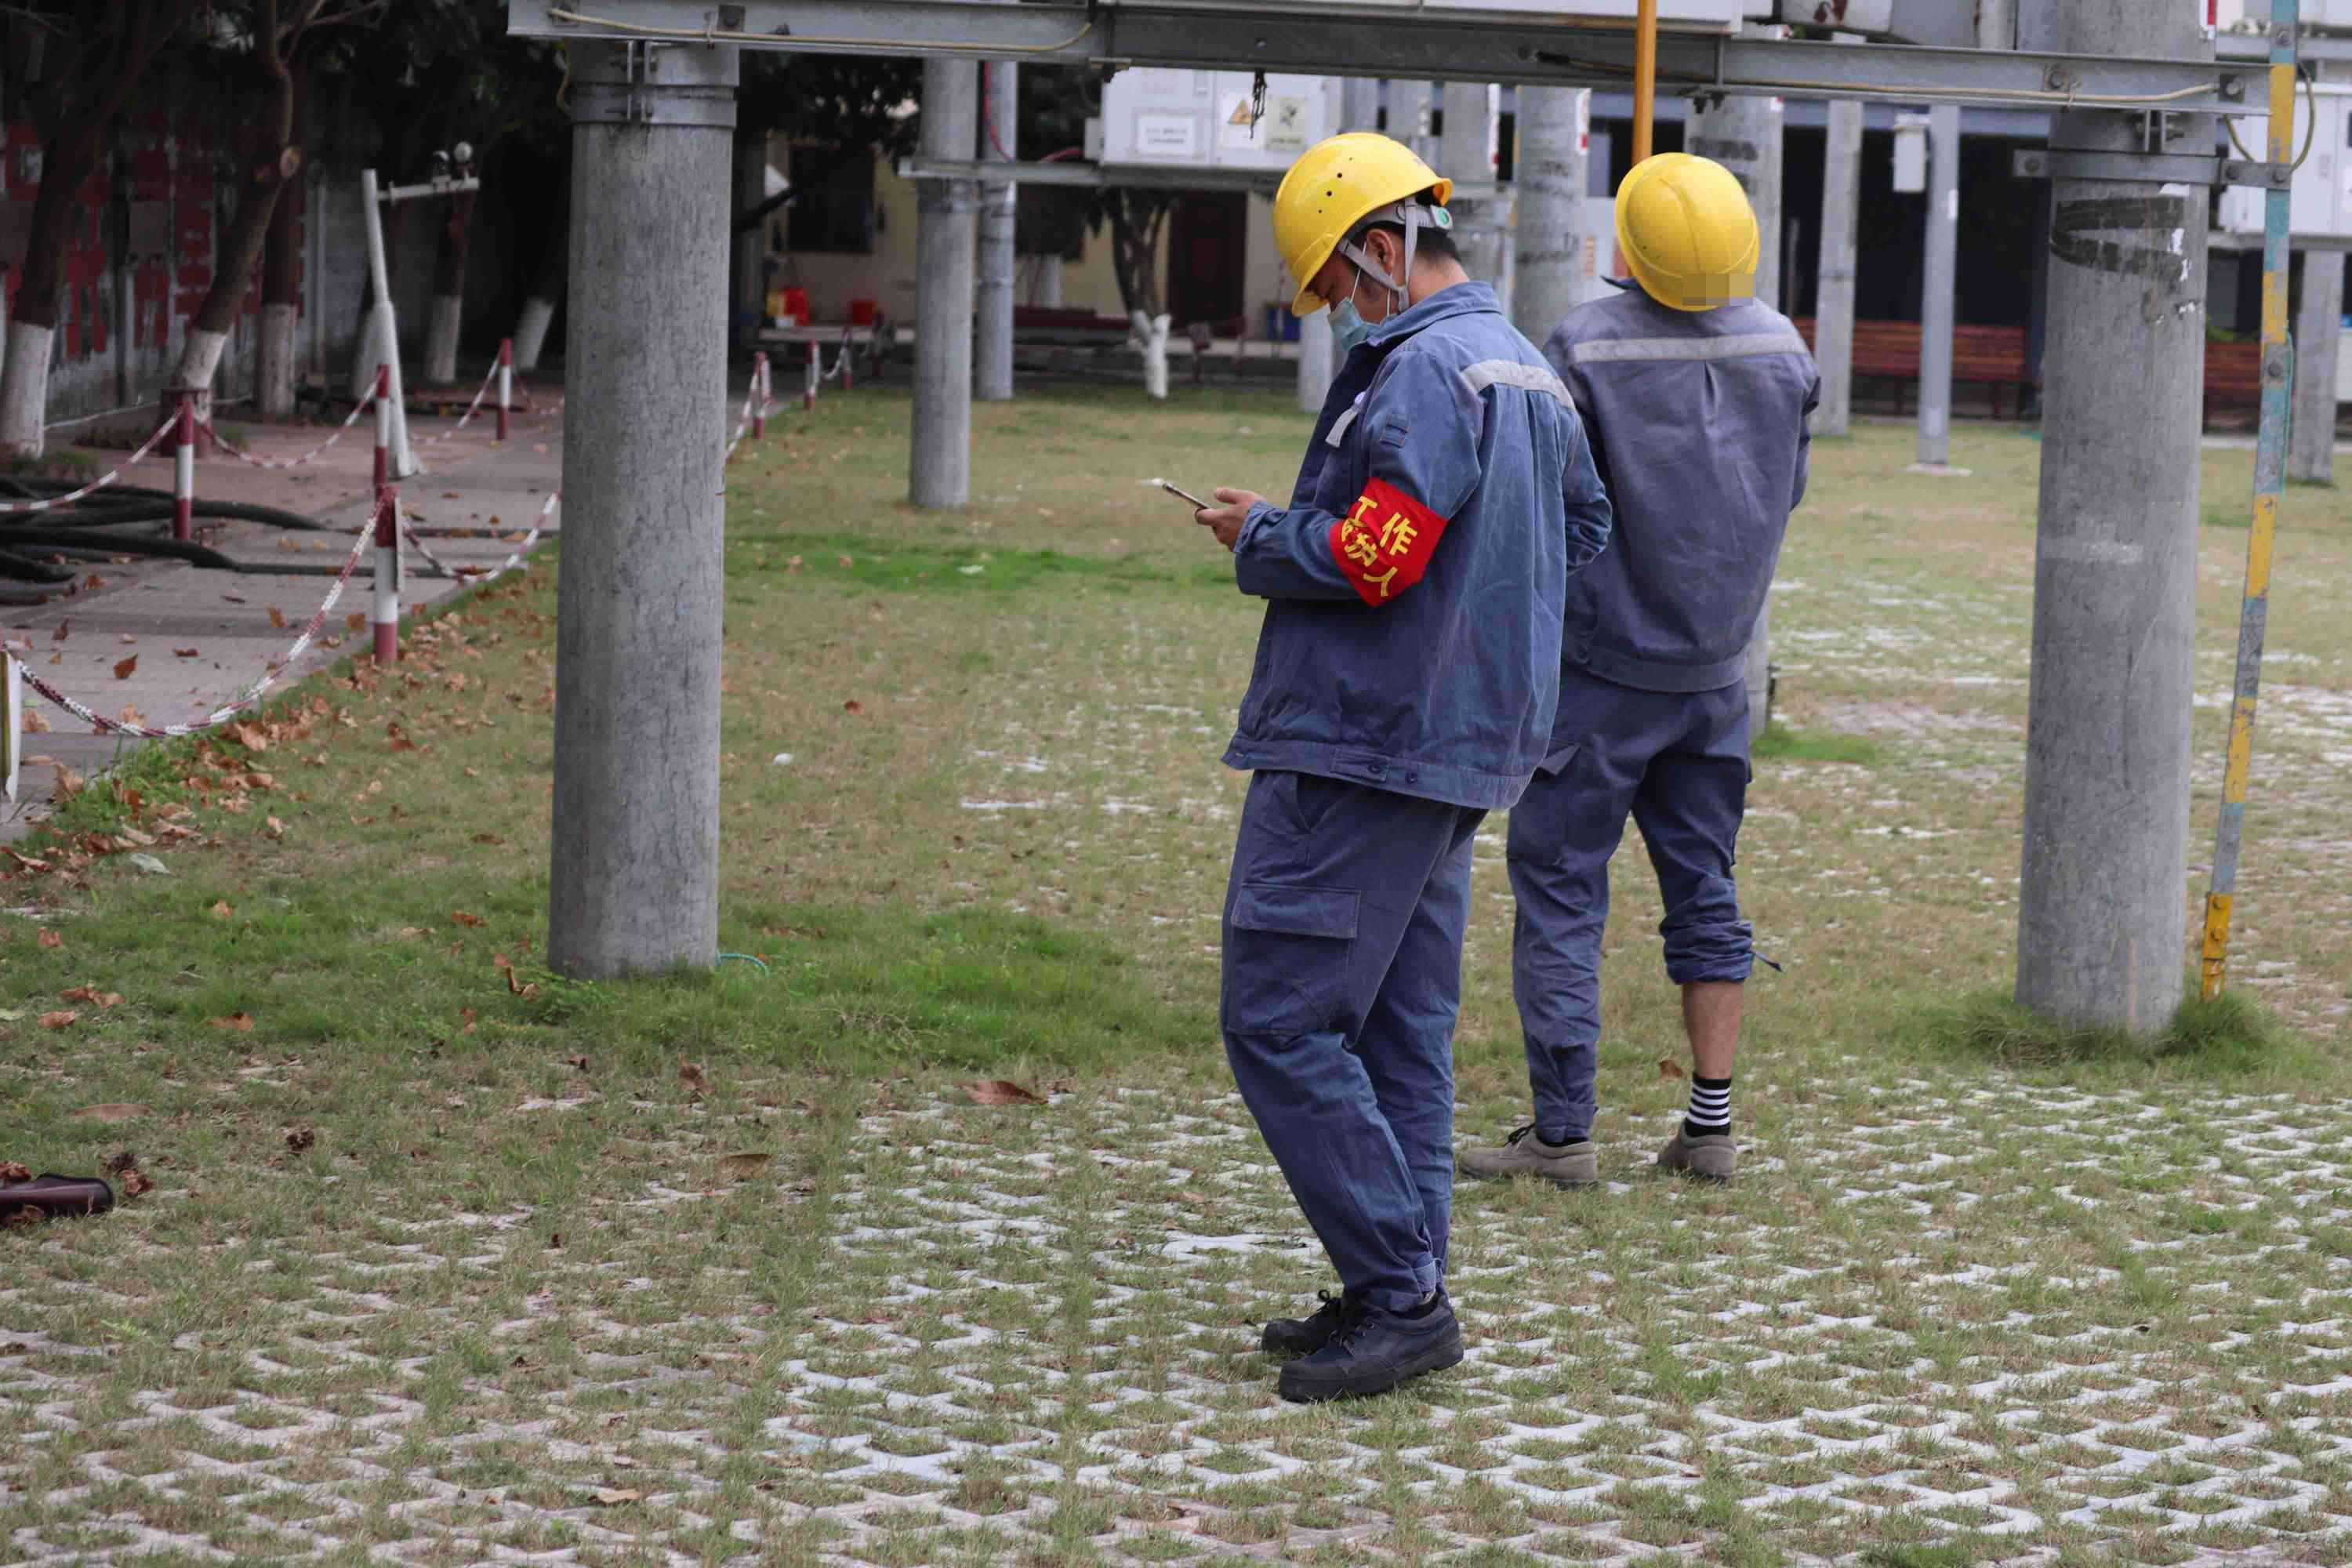downsuit: (1214, 789, 1486, 1309), (1503, 683, 1769, 1125)
upsuit: (1228, 273, 1598, 779), (1547, 273, 1825, 668)
wrongbottom: (1661, 921, 1764, 1102)
